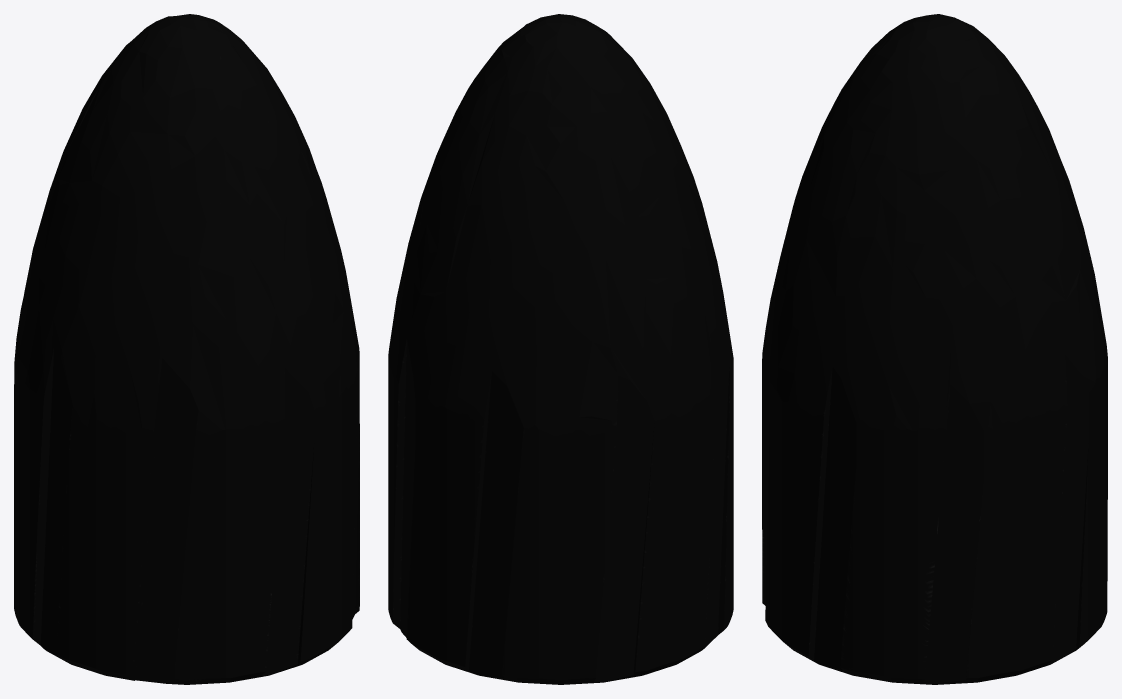
The model's file is 9mm bullet - Rifled.glb.
The picture shows the model from 3 angles, left to right: view 1: azimuth 30°, elevation 25°; view 2: azimuth 150°, elevation 25°; view 3: azimuth 270°, elevation 25°; orthographic projection.
Parts seen in each view (by area): view 1: node_id27; view 2: node_id27; view 3: node_id27.
Part boxes in pixels (x1,y1,x2,y2): node_id27: (14, 14, 359, 684); node_id27: (388, 14, 733, 684); node_id27: (762, 14, 1107, 684).
Size of the model in its own units: 0.2689 by 0.512 by 0.2689.
1 material, 1 textured.
